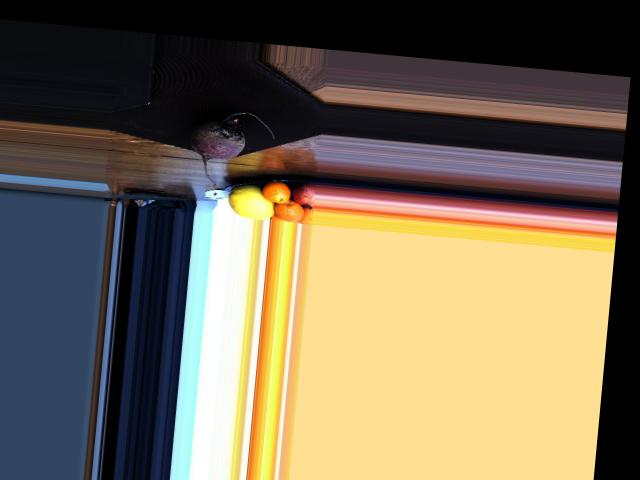beet: (186, 107, 276, 187)
